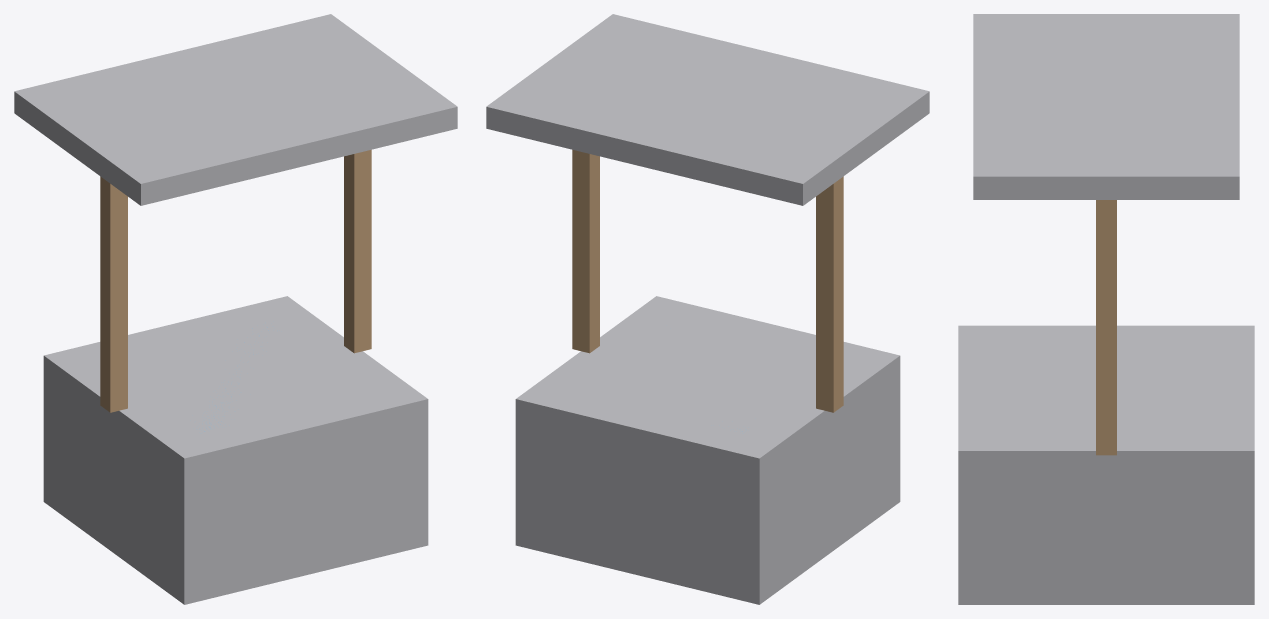
The model's file is Prop_Water_AMF_Well_V5.glb.
3 views of the same model, side by side, from view 1: azimuth 30°, elevation 25°; view 2: azimuth 150°, elevation 25°; view 3: azimuth 270°, elevation 25° (orthographic). The views are drawn at different scales.
Parts seen in each view (by area): view 1: Prop_Water_AMF_Well_V5; view 2: Prop_Water_AMF_Well_V5; view 3: Prop_Water_AMF_Well_V5.
Part boxes in pixels (x1,y1,x2,y2): Prop_Water_AMF_Well_V5: (14,14,457,604); Prop_Water_AMF_Well_V5: (486,14,929,604); Prop_Water_AMF_Well_V5: (958,14,1254,604).
Size of the model in its own units: 1.81 by 2.32 by 1.39.
